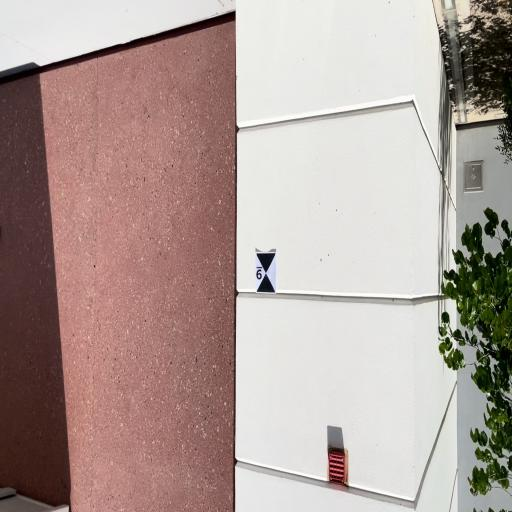target9: (255, 251, 276, 293)
